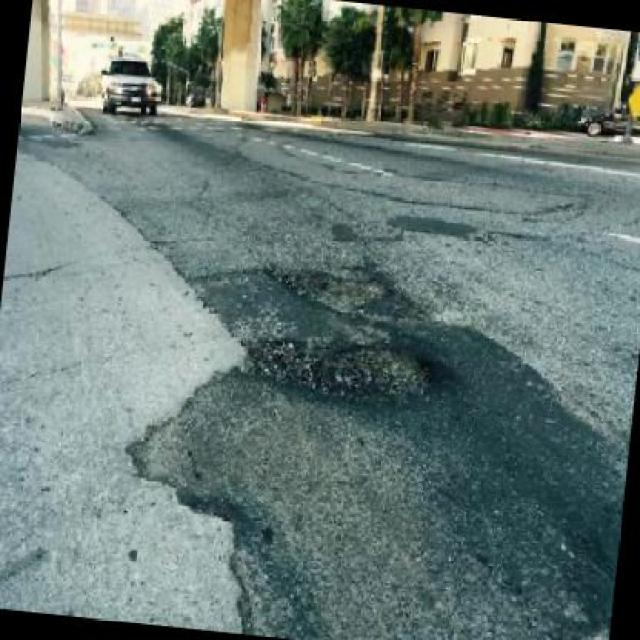pothole1: (232, 322, 440, 416), (253, 256, 392, 316)
